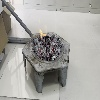fire: (39, 29, 46, 39)
